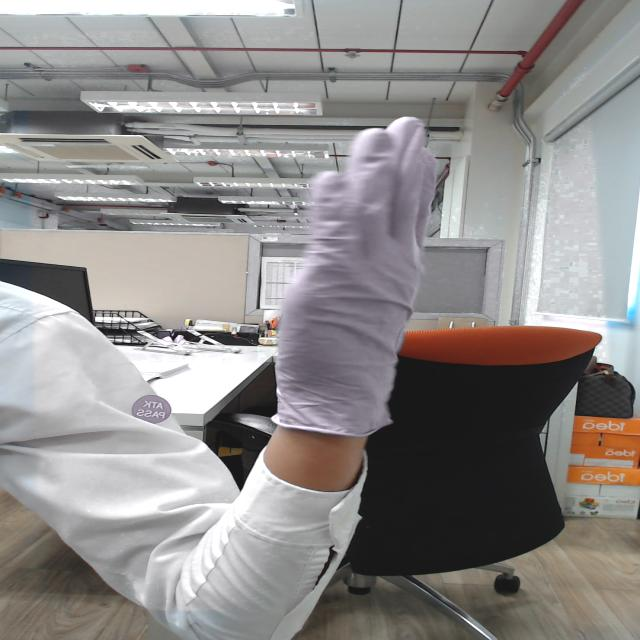glove: (235, 106, 467, 384)
